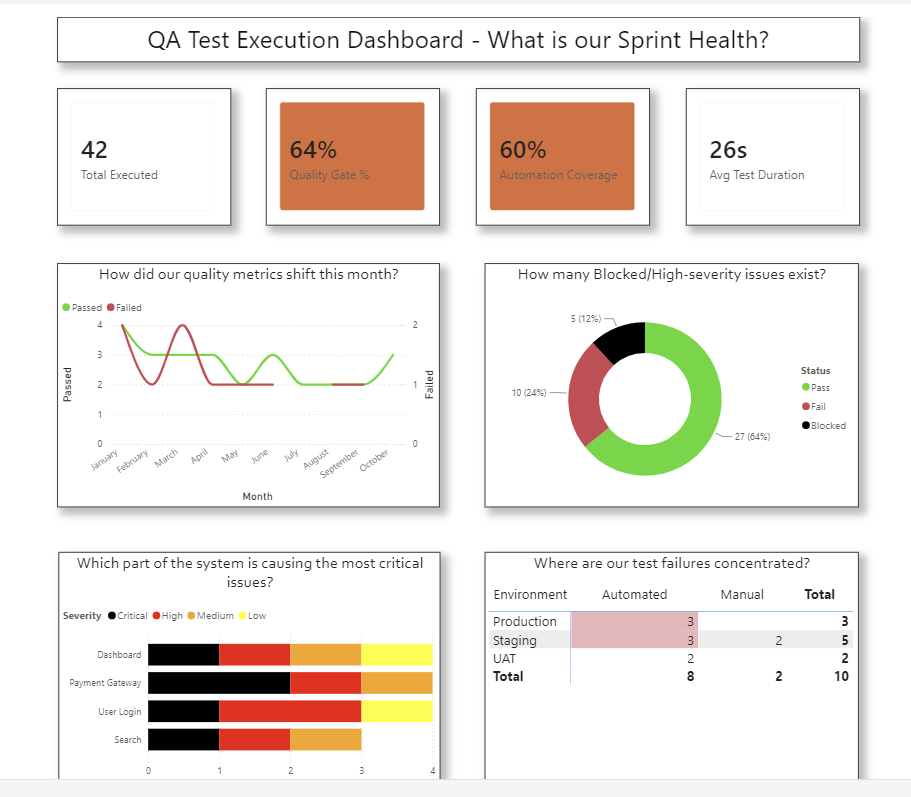

This screenshot's page, from the dashboard's own definition file:
{"tool":"powerbi","page":{"name":"QA Dashboard","canvas":[1280,1100],"ordinal":0},"visuals":[{"type":"textbox","box":[112.5,0,1052.5,59],"z":0},{"type":"cardVisual","fields":{"Data":["QA_Test_Execution_Data.Total Test Cases"]},"box":[112.5,93.3,227.8,179.8],"z":1},{"type":"cardVisual","fields":{"Data":["QA_Test_Execution_Data.Pass Rate"]},"box":[387.4,93.3,227.8,179.8],"z":2},{"type":"cardVisual","fields":{"Data":["QA_Test_Execution_Data.Automation Rate (%)"]},"box":[662.3,93.3,227.8,179.8],"z":3},{"type":"cardVisual","fields":{"Data":["QA_Test_Execution_Data.Avg Execution Time (s)"]},"box":[937.2,93.3,227.8,179.8],"z":4},{"type":"lineChart","title":"How did our quality metrics shift this month?","fields":{"Category":["QA_Test_Execution_Data.Date.Variation.Date Hierarchy.Year","QA_Test_Execution_Data.Date.Variation.Date Hierarchy.Quarter","QA_Test_Execution_Data.Date.Variation.Date Hierarchy.Month","QA_Test_Execution_Data.Date.Variation.Date Hierarchy.Day"],"Y":["QA_Test_Execution_Data.Passed Tests"],"Y2":["QA_Test_Execution_Data.Failed Tests"]},"box":[112.9,322.9,501.4,320],"z":5},{"type":"donutChart","title":"How many Blocked/High-severity issues exist?","fields":{"Category":["QA_Test_Execution_Data.Status"],"Y":["CountNonNull(QA_Test_Execution_Data.Status)"]},"box":[674.3,322.9,490,320],"z":6},{"type":"barChart","title":"Which part of the system is causing the most critical issues?","fields":{"Category":["QA_Test_Execution_Data.Module"],"Series":["SeveritySort.DefectSeverity"],"Y":["QA_Test_Execution_Data.Fail or Blocked Count"]},"box":[114.3,701.4,501,320],"z":7},{"type":"pivotTable","title":"Where are our test failures concentrated?","fields":{"Columns":["QA_Test_Execution_Data.TestType"],"Rows":["QA_Test_Execution_Data.Environment"],"Values":["QA_Test_Execution_Data.Failed Tests"]},"box":[674.3,701.4,490,320],"z":8}]}

Visuals, with their boxes in screenshot pixels (x1, y1, x2, y2), scaled from the page's 1280x1100 canvas onto the 911x797 screenshot:
textbox: 80:0:829:43
cardVisual - QA_Test_Execution_Data.Total Test Cases: 80:68:242:198
cardVisual - QA_Test_Execution_Data.Pass Rate: 276:68:438:198
cardVisual - QA_Test_Execution_Data.Automation Rate (%): 471:68:634:198
cardVisual - QA_Test_Execution_Data.Avg Execution Time (s): 667:68:829:198
"How did our quality metrics shift this month?" lineChart: 80:234:437:466
"How many Blocked/High-severity issues exist?" donutChart: 480:234:829:466
"Which part of the system is causing the most critical issues?" barChart: 81:508:438:740
"Where are our test failures concentrated?" pivotTable: 480:508:829:740
